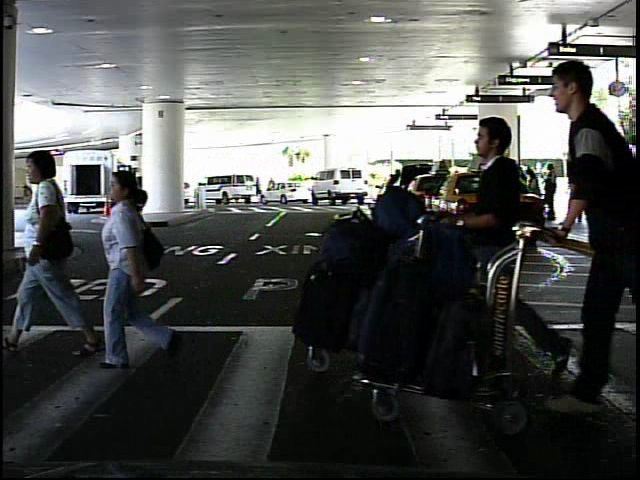person: (438, 104, 548, 394), (21, 137, 109, 358), (85, 158, 167, 382), (106, 172, 124, 222), (583, 171, 602, 217)
